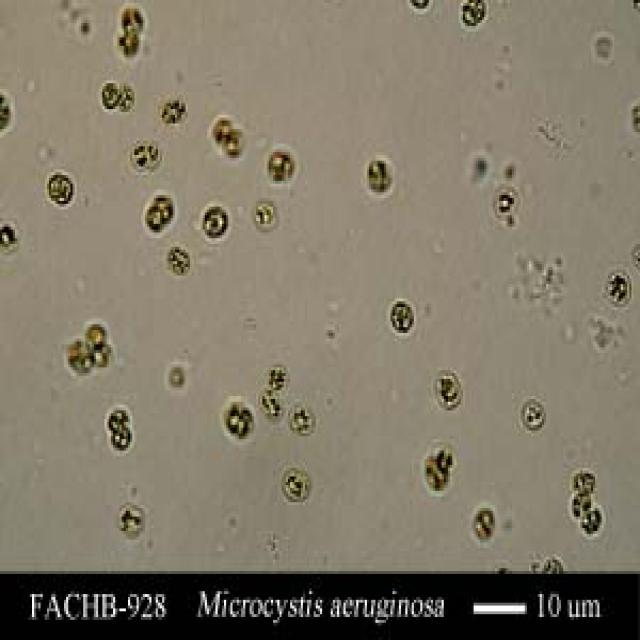Blue Green Algae: (264, 146, 298, 184), (367, 155, 397, 195), (66, 336, 94, 376), (198, 207, 230, 241), (44, 169, 74, 204), (164, 241, 194, 276), (282, 465, 312, 499), (156, 95, 188, 126), (435, 373, 461, 410), (290, 399, 314, 436), (117, 29, 143, 63), (606, 270, 631, 304), (390, 301, 416, 333), (143, 201, 168, 232), (459, 3, 486, 31), (267, 362, 290, 390), (582, 505, 604, 534), (98, 80, 117, 112), (141, 141, 162, 169), (107, 404, 130, 428), (118, 83, 136, 109), (111, 428, 130, 450)
